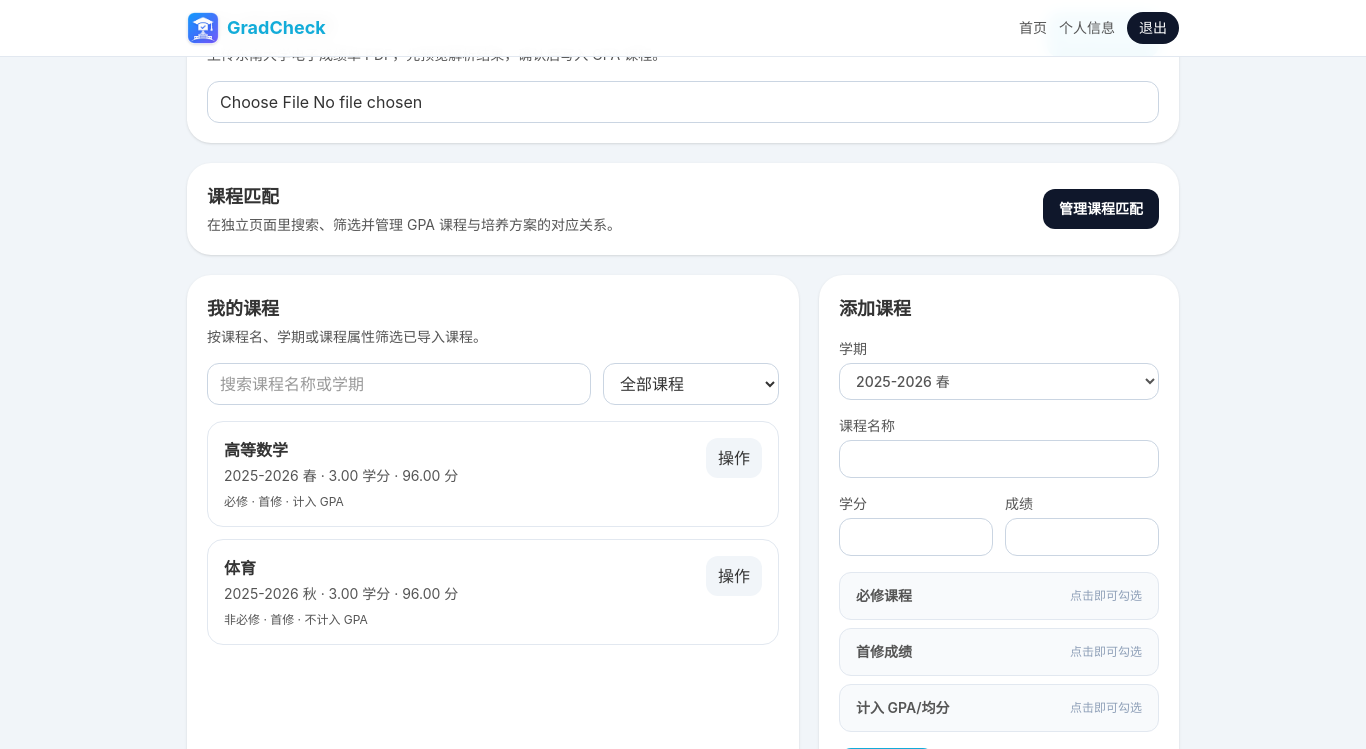
it: GpaPage › filters GPA courses by keyword and course attributes
(page scrolled)
Type "体育" into the field with test id "gpa-course-search" at (399,384), box left=207, top=363, right=591, bottom=405
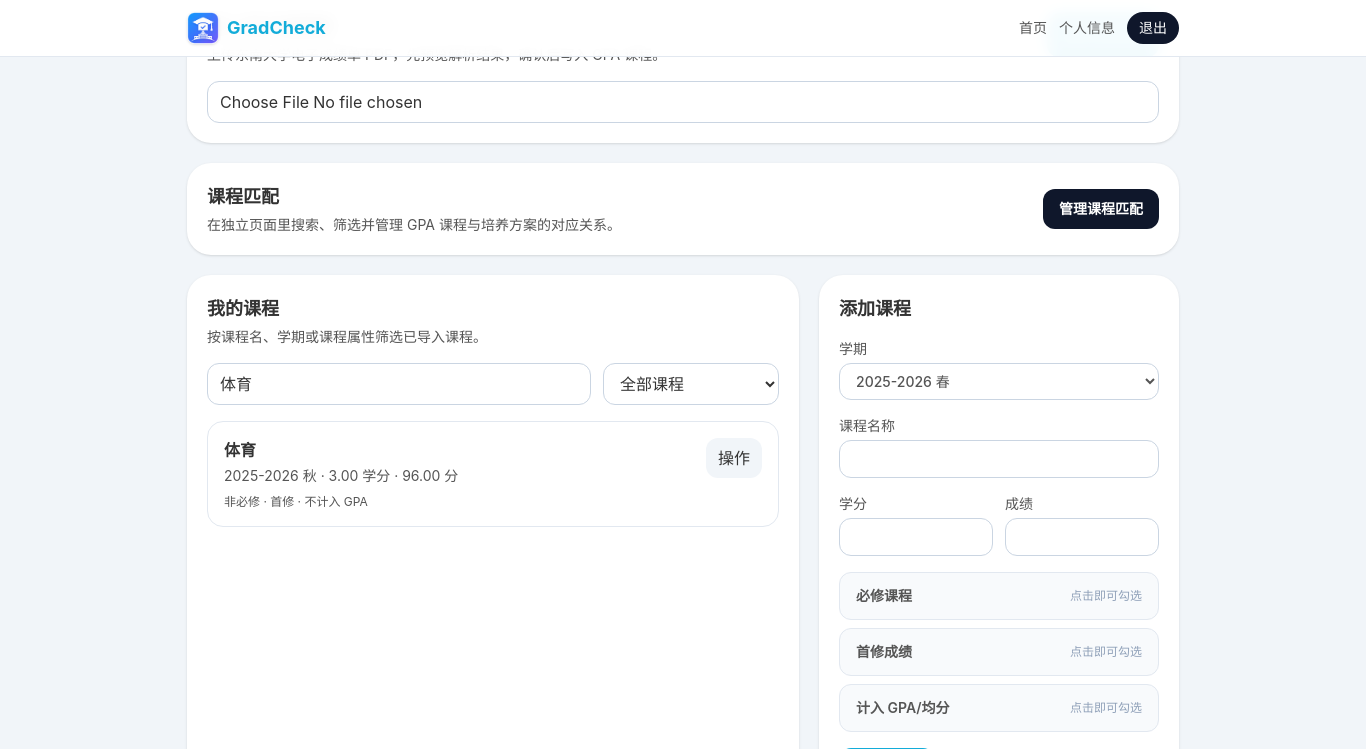
Check: the element with test id "gpa-course-list" shows "体育", box left=224, top=440, right=256, bottom=460
Check: the text with test id "gpa-course-list" no longer shows "高等数学"
Select "必修" in the dropdown with test id "gpa-course-status-filter" at (691,384), box left=603, top=363, right=779, bottom=405
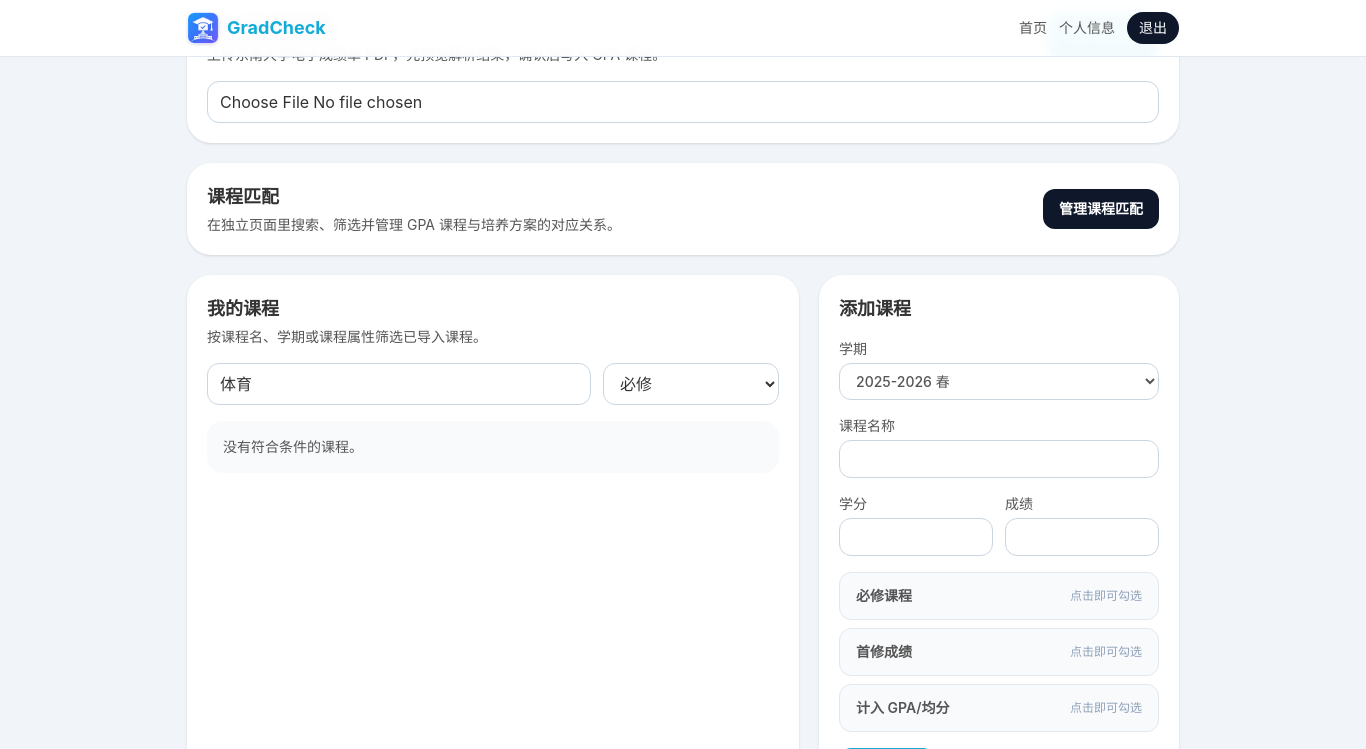
Check: the text "没有符合条件的课程。" is shown, box left=207, top=421, right=779, bottom=473
